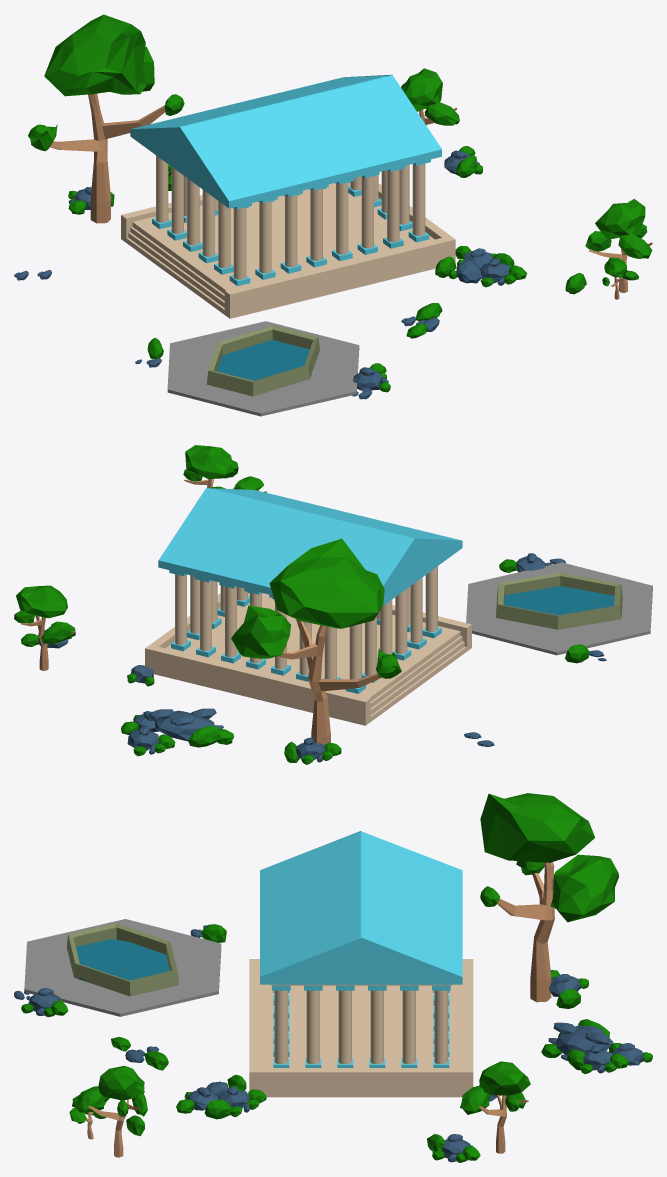
File: Temple diamand.fbx
3 renders of one model, top to bottom at view 1: azimuth 30°, elevation 25°; view 2: azimuth 150°, elevation 25°; view 3: azimuth 270°, elevation 25°, orthographic. The views are drawn at different scales.
Parts seen in each view (by area): view 1: Cube.063; view 2: Cube.063; view 3: Cube.063.
Part boxes in pixels (x1,y1,x2,y2): Cube.063: (14,14,652,416); Cube.063: (14,445,652,764); Cube.063: (14,793,652,1162).
Size of the model in its own units: 12.67 by 14.25 by 5.13.
